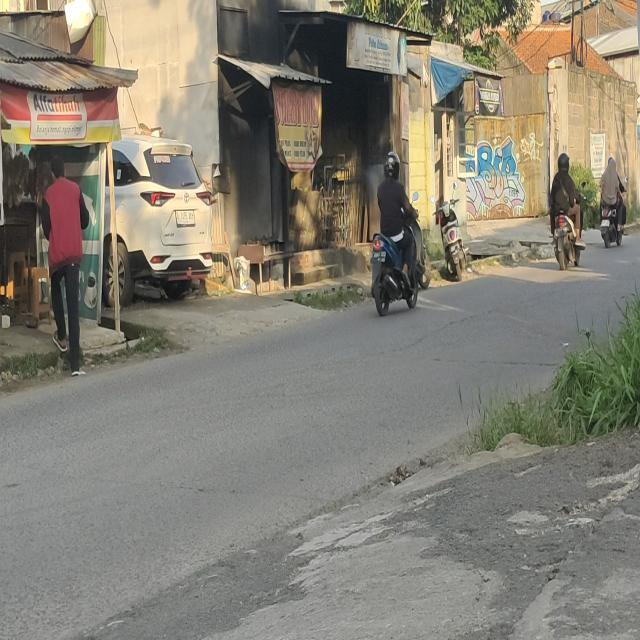helmet: (383, 151, 402, 178), (557, 152, 570, 172)
no-helmet: (608, 158, 618, 172)
